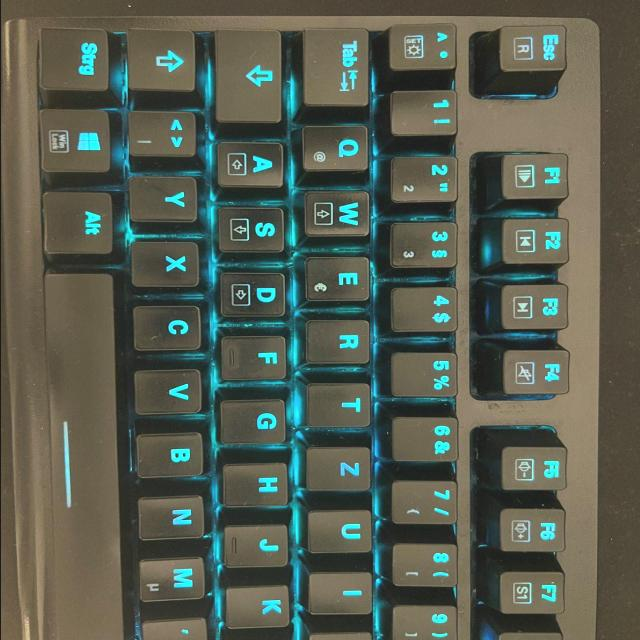1: (391, 88, 461, 136)
2: (389, 154, 461, 204)
3: (388, 218, 462, 269)
4: (390, 284, 461, 333)
5: (390, 349, 462, 399)
6: (391, 414, 463, 464)
7: (391, 478, 462, 525)
8: (391, 541, 461, 589)
9: (391, 604, 459, 640)
a: (216, 138, 290, 189)
alt-left: (44, 189, 118, 256)
b: (137, 430, 210, 479)
c: (133, 302, 207, 352)
caret: (389, 24, 459, 72)
d: (215, 268, 289, 319)
e: (304, 255, 374, 303)
f: (219, 333, 291, 381)
g: (220, 396, 292, 446)
h: (222, 460, 293, 507)
i: (309, 571, 377, 615)
j: (223, 522, 293, 568)
k: (226, 584, 294, 630)
keyboard: (2, 12, 602, 640)
less: (128, 108, 200, 158)
m: (139, 554, 209, 602)
n: (138, 494, 209, 540)
q: (301, 123, 373, 173)
r: (305, 317, 375, 365)
s: (215, 203, 289, 254)
shift-left: (129, 25, 199, 92)
shift-lock: (214, 26, 286, 126)
space: (45, 262, 125, 640)
strg-left: (40, 25, 112, 92)
t: (307, 381, 375, 429)
tab: (302, 25, 374, 109)
u: (306, 508, 376, 554)
v: (134, 366, 207, 416)
w: (303, 188, 375, 238)
x: (131, 239, 203, 289)
y: (130, 173, 202, 223)
z: (305, 445, 375, 493)
